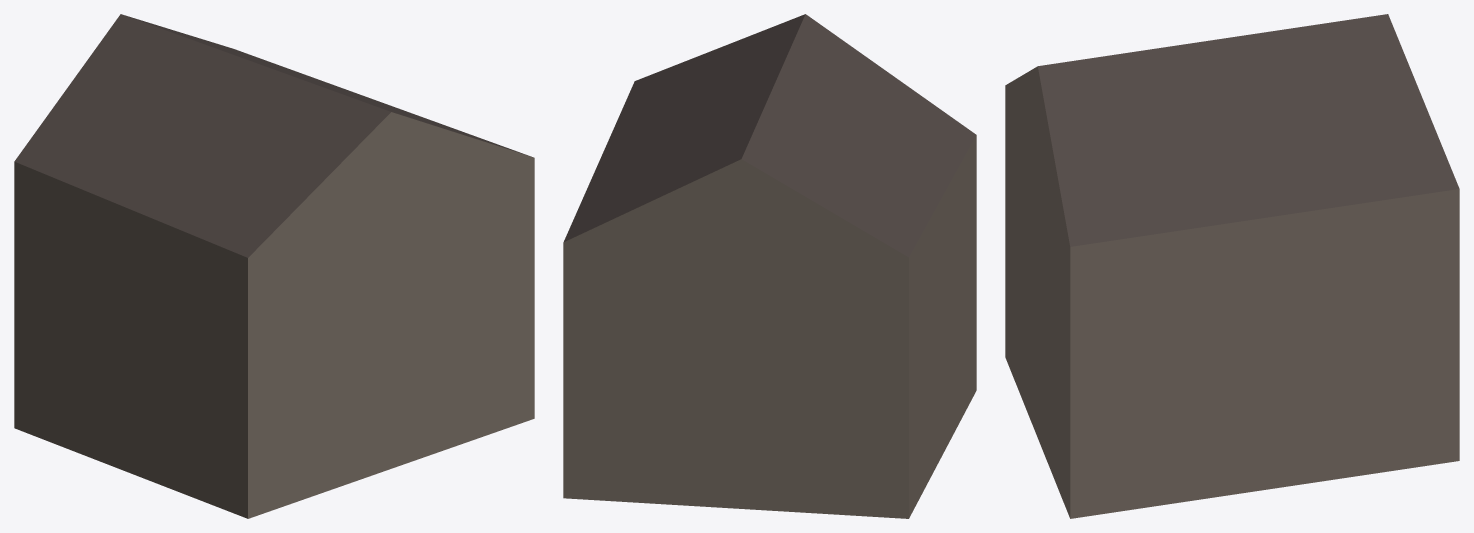
3 renders of one model, left to right at view 1: azimuth 30°, elevation 25°; view 2: azimuth 150°, elevation 25°; view 3: azimuth 270°, elevation 25°, orthographic. The views are drawn at different scales.
Visible parts, largest first — view 1: HP-w1198664290; view 2: HP-w1198664290; view 3: HP-w1198664290.
Part boxes in pixels (x1,y1,x2,y2): HP-w1198664290: (14,14,534,518); HP-w1198664290: (563,14,976,518); HP-w1198664290: (1005,14,1459,518).
Size of the model in its own units: 9.62 by 8.21 by 9.08.
